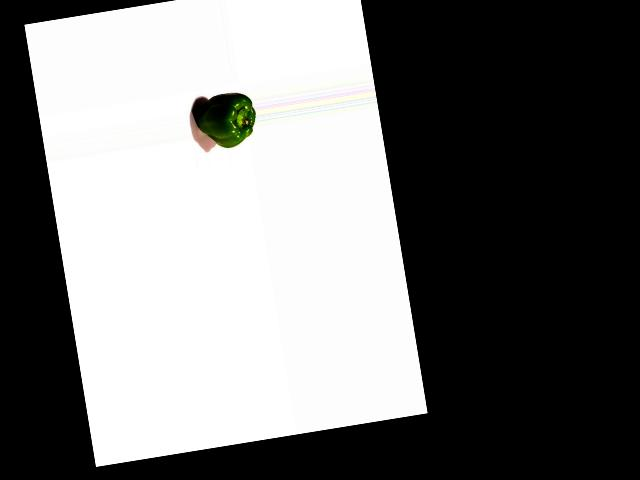bell_pepper: (190, 88, 259, 154)
